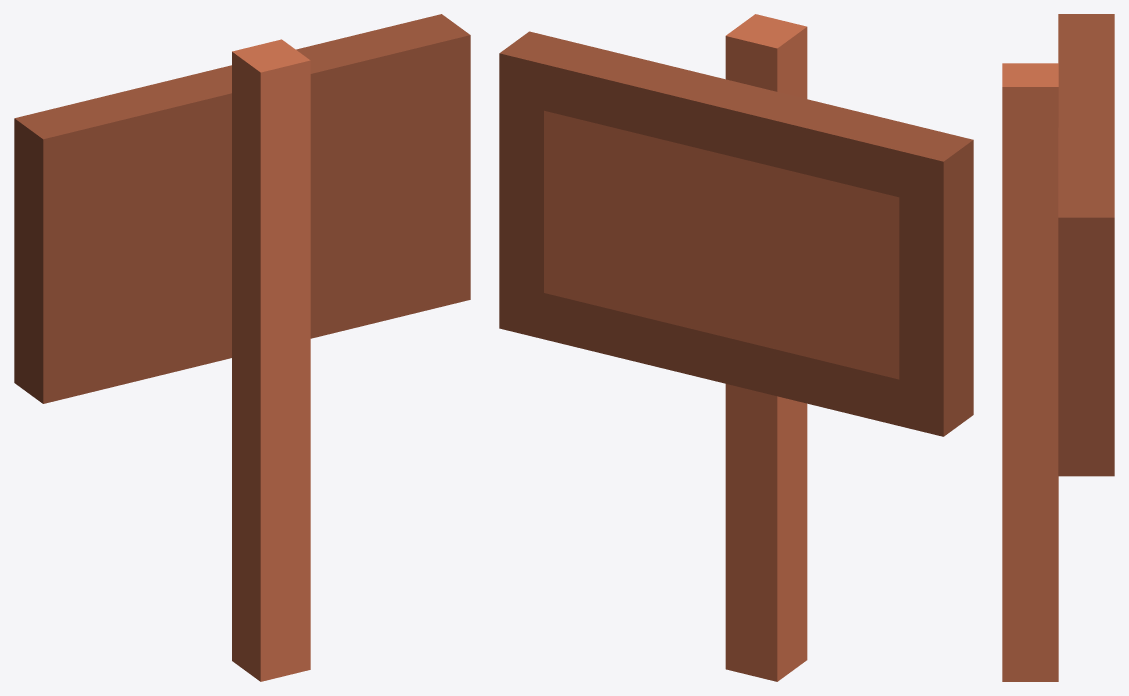
File: sign.glb
3 renders of one model, left to right at view 1: azimuth 30°, elevation 25°; view 2: azimuth 150°, elevation 25°; view 3: azimuth 270°, elevation 25°, orthographic. The views are drawn at different scales.
Visible parts, largest first — view 1: sign; view 2: sign; view 3: sign.
Part boxes in pixels (x1=…): sign: x1=14, y1=14, x2=470, y2=681; sign: x1=499, y1=14, x2=973, y2=681; sign: x1=1002, y1=14, x2=1114, y2=681.
Bounding box in the file's own units: 0.3 × 0.4088 × 0.07.
